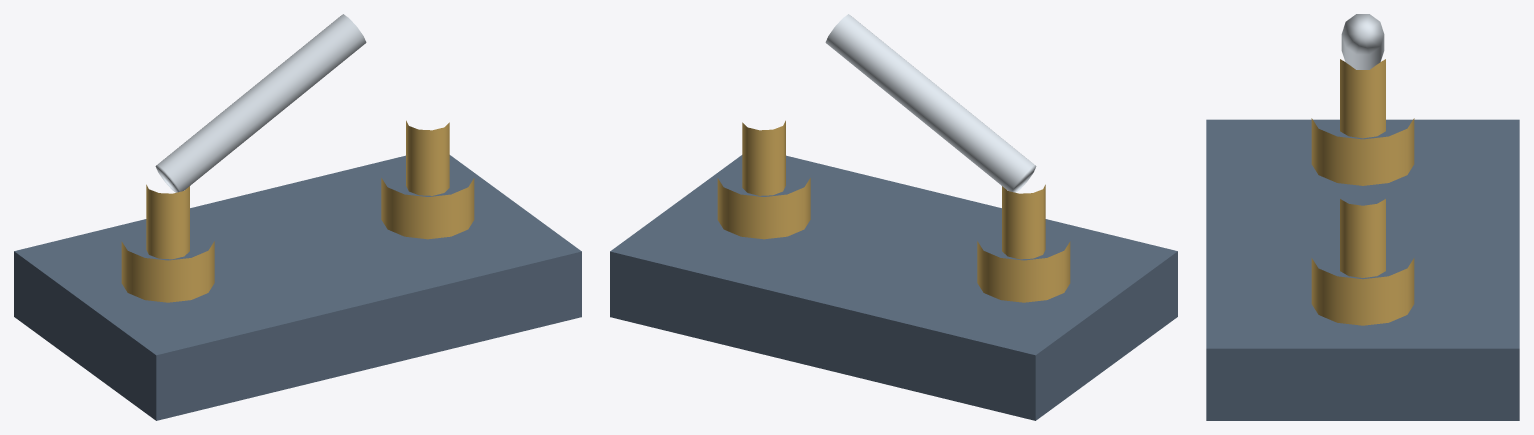
The model's file is switch.glb.
The picture shows the model from 3 angles, left to right: view 1: azimuth 30°, elevation 25°; view 2: azimuth 150°, elevation 25°; view 3: azimuth 270°, elevation 25°; orthographic projection. The views are drawn at different scales.
Visible parts, largest first — view 1: Interruptor-dark, Interruptor-brass, Interruptor-silver; view 2: Interruptor-dark, Interruptor-brass, Interruptor-silver; view 3: Interruptor-dark, Interruptor-brass, Interruptor-silver.
Part boxes in pixels (<box>): Interruptor-dark: <box>14,155,581,420</box>; Interruptor-brass: <box>121,120,474,302</box>; Interruptor-silver: <box>155,14,366,192</box>; Interruptor-dark: <box>610,155,1177,420</box>; Interruptor-brass: <box>717,120,1070,302</box>; Interruptor-silver: <box>825,14,1036,192</box>; Interruptor-dark: <box>1206,119,1519,420</box>; Interruptor-brass: <box>1311,59,1414,325</box>; Interruptor-silver: <box>1341,14,1384,69</box>.
Bounding box in the file's own units: 1.9 × 1.23 × 1.1.
